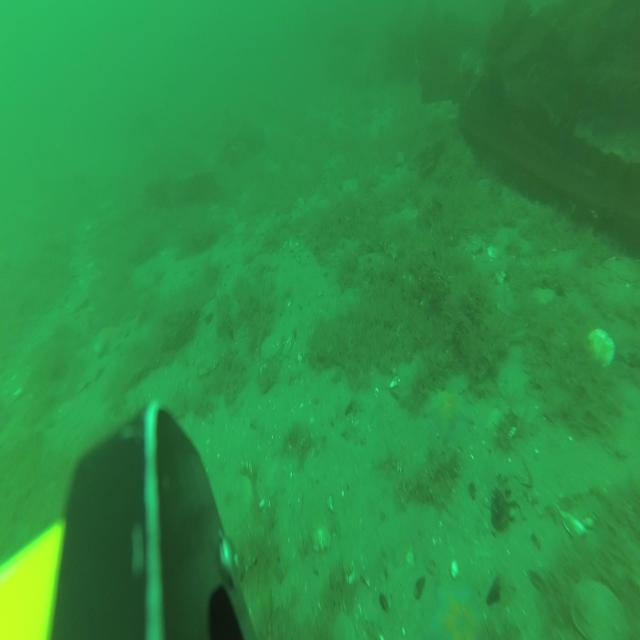scallop: (568, 575, 626, 640), (583, 325, 617, 373)
starfish: (424, 575, 484, 640), (424, 384, 473, 438)
